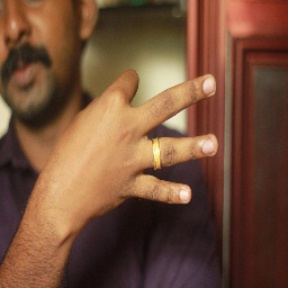K: (51, 69, 225, 215)
